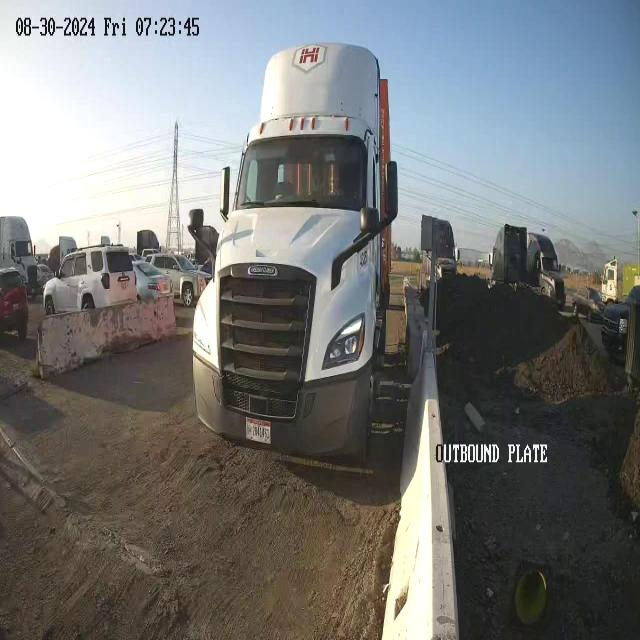CONTAINER: (371, 72, 401, 292)
